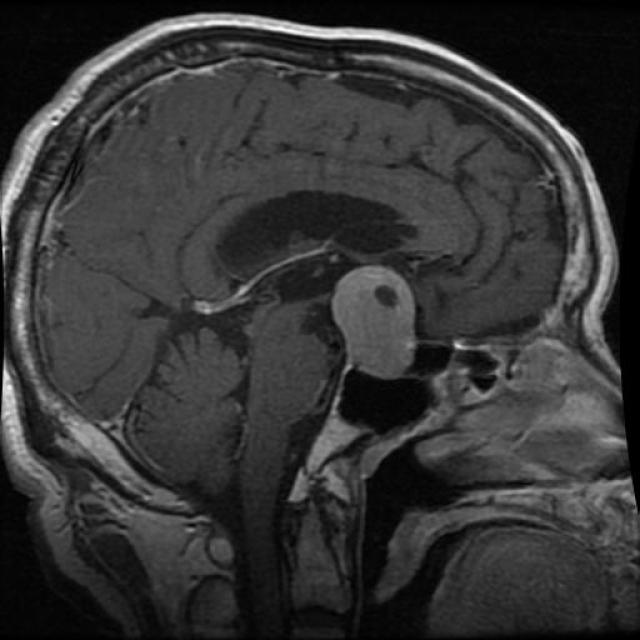pituitary: (334, 263, 425, 382)
